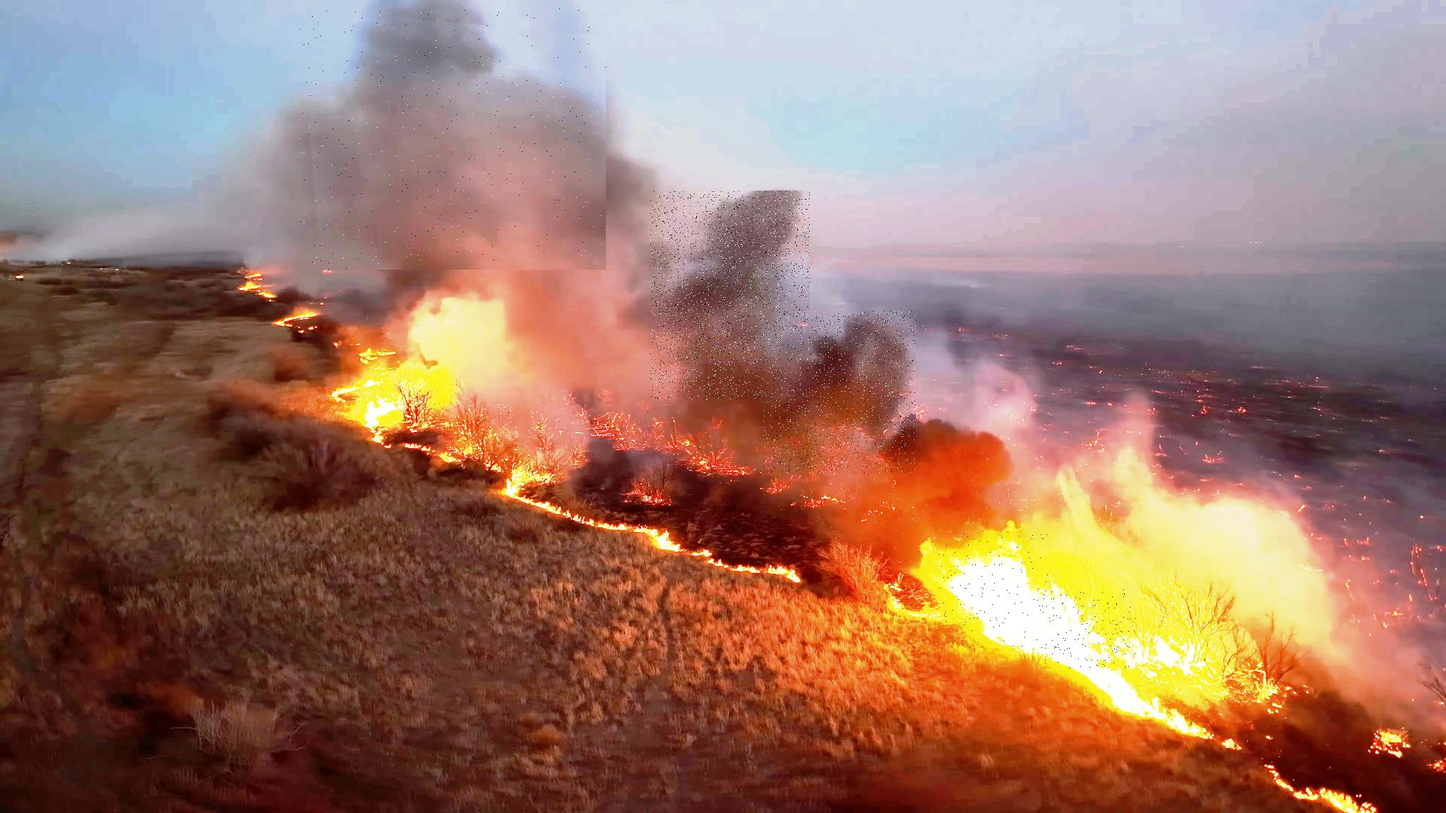fire: (938, 531, 1049, 648), (1039, 589, 1135, 668), (352, 364, 403, 431)
smoke: (298, 8, 606, 270), (650, 191, 810, 399), (763, 311, 916, 473)
